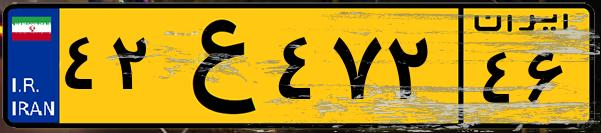2: (385, 28, 445, 110), (110, 28, 158, 98)
4: (270, 28, 330, 110), (57, 26, 110, 100), (475, 38, 525, 113)
6: (525, 38, 570, 115)
7: (330, 28, 385, 110)
ع: (158, 12, 270, 120)
